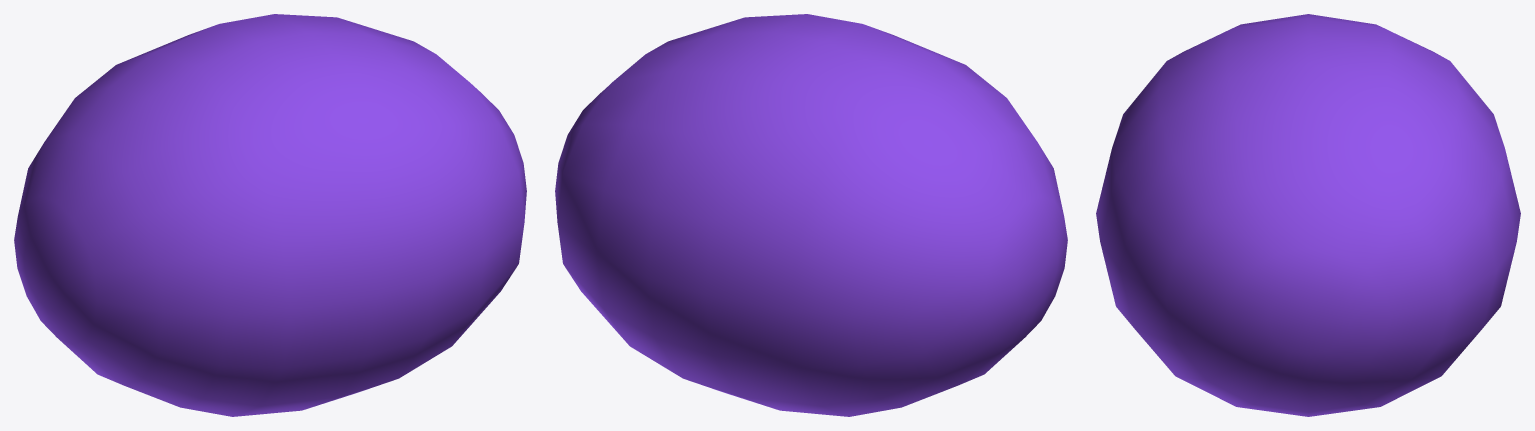
File: Melancia.fbx
3 renders of one model, left to right at view 1: azimuth 30°, elevation 25°; view 2: azimuth 150°, elevation 25°; view 3: azimuth 270°, elevation 25°, orthographic. The views are drawn at different scales.
Parts seen in each view (by area): view 1: Sphere; view 2: Sphere; view 3: Sphere.
Part boxes in pixels (x1,y1,x2,y2): Sphere: [14, 14, 526, 416]; Sphere: [555, 14, 1067, 416]; Sphere: [1096, 14, 1520, 416].
Bounding box in the file's own units: 480 × 353 × 394.
